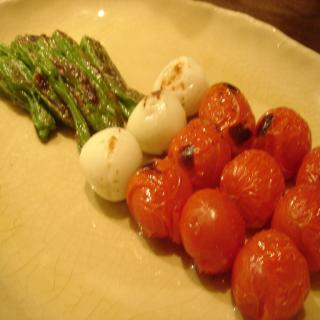Tomato: (127, 81, 320, 320), (182, 188, 249, 282)
